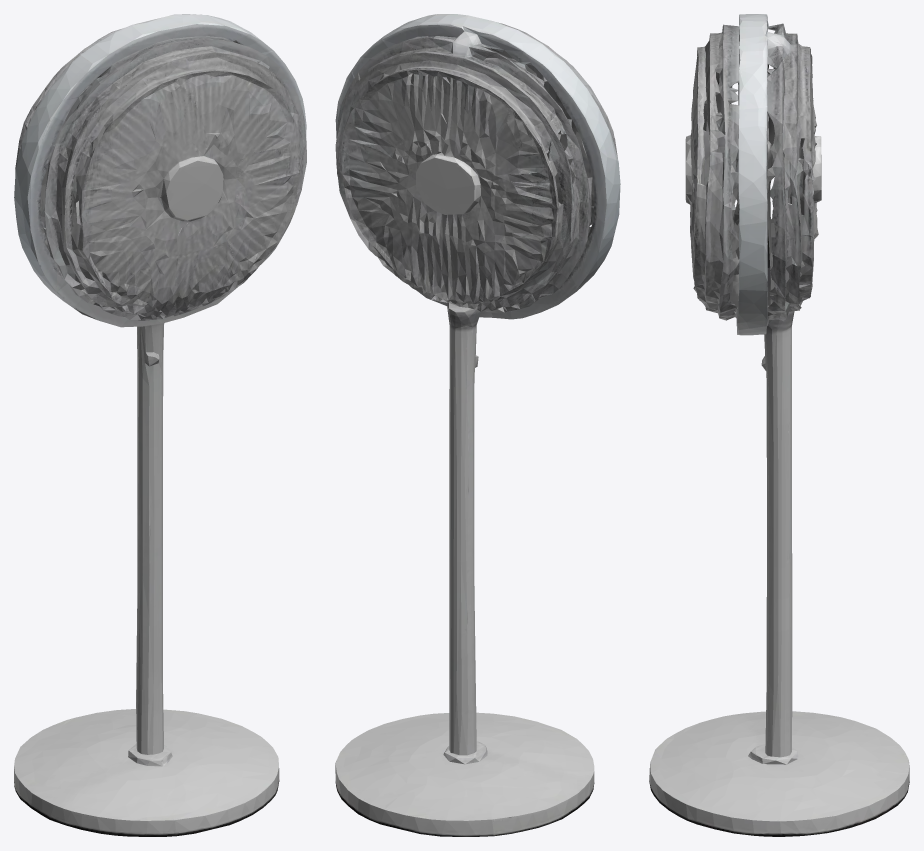
Rendered from ast_da645619b597.glb.
The picture shows the model from 3 angles, left to right: view 1: azimuth 30°, elevation 25°; view 2: azimuth 150°, elevation 25°; view 3: azimuth 270°, elevation 25°; orthographic projection. The views are drawn at different scales.
Parts seen in each view (by area): view 1: geometry_0; view 2: geometry_0; view 3: geometry_0.
Boxes of the visible parts, x1,y1,x2,y2 form: geometry_0: [14, 14, 306, 836]; geometry_0: [335, 14, 620, 836]; geometry_0: [649, 14, 909, 836].
Size of the model in its own units: 0.3809 by 1 by 0.3146.
1 material, 1 textured.
